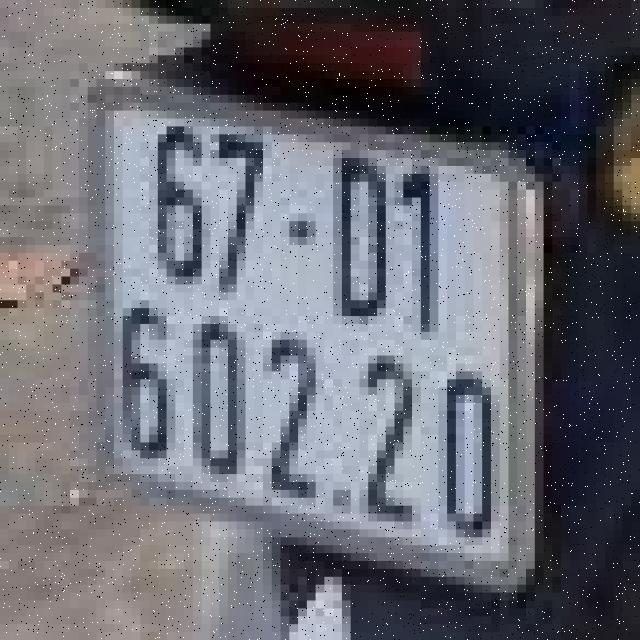0: (438, 364, 500, 553), (188, 316, 250, 482)
1: (395, 162, 447, 336)
2: (351, 348, 421, 529), (263, 332, 324, 506)
6: (114, 300, 175, 466), (149, 114, 202, 288)
7: (210, 130, 272, 296)
D: (329, 146, 390, 328)
